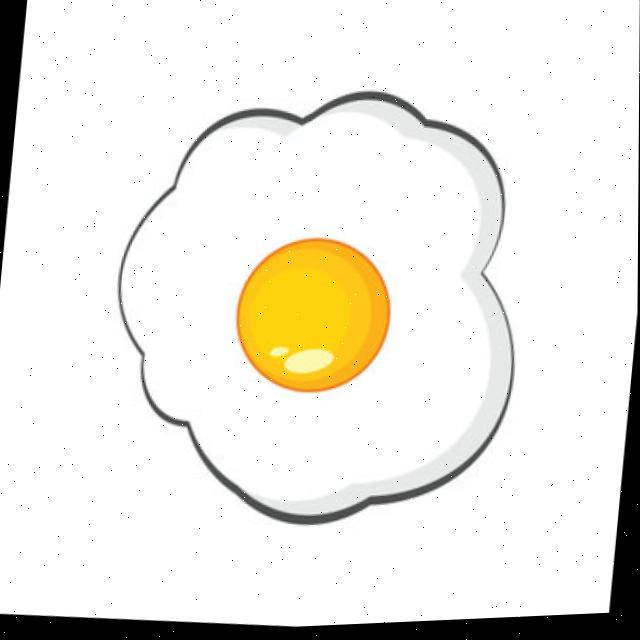Egg: (120, 96, 513, 523)
